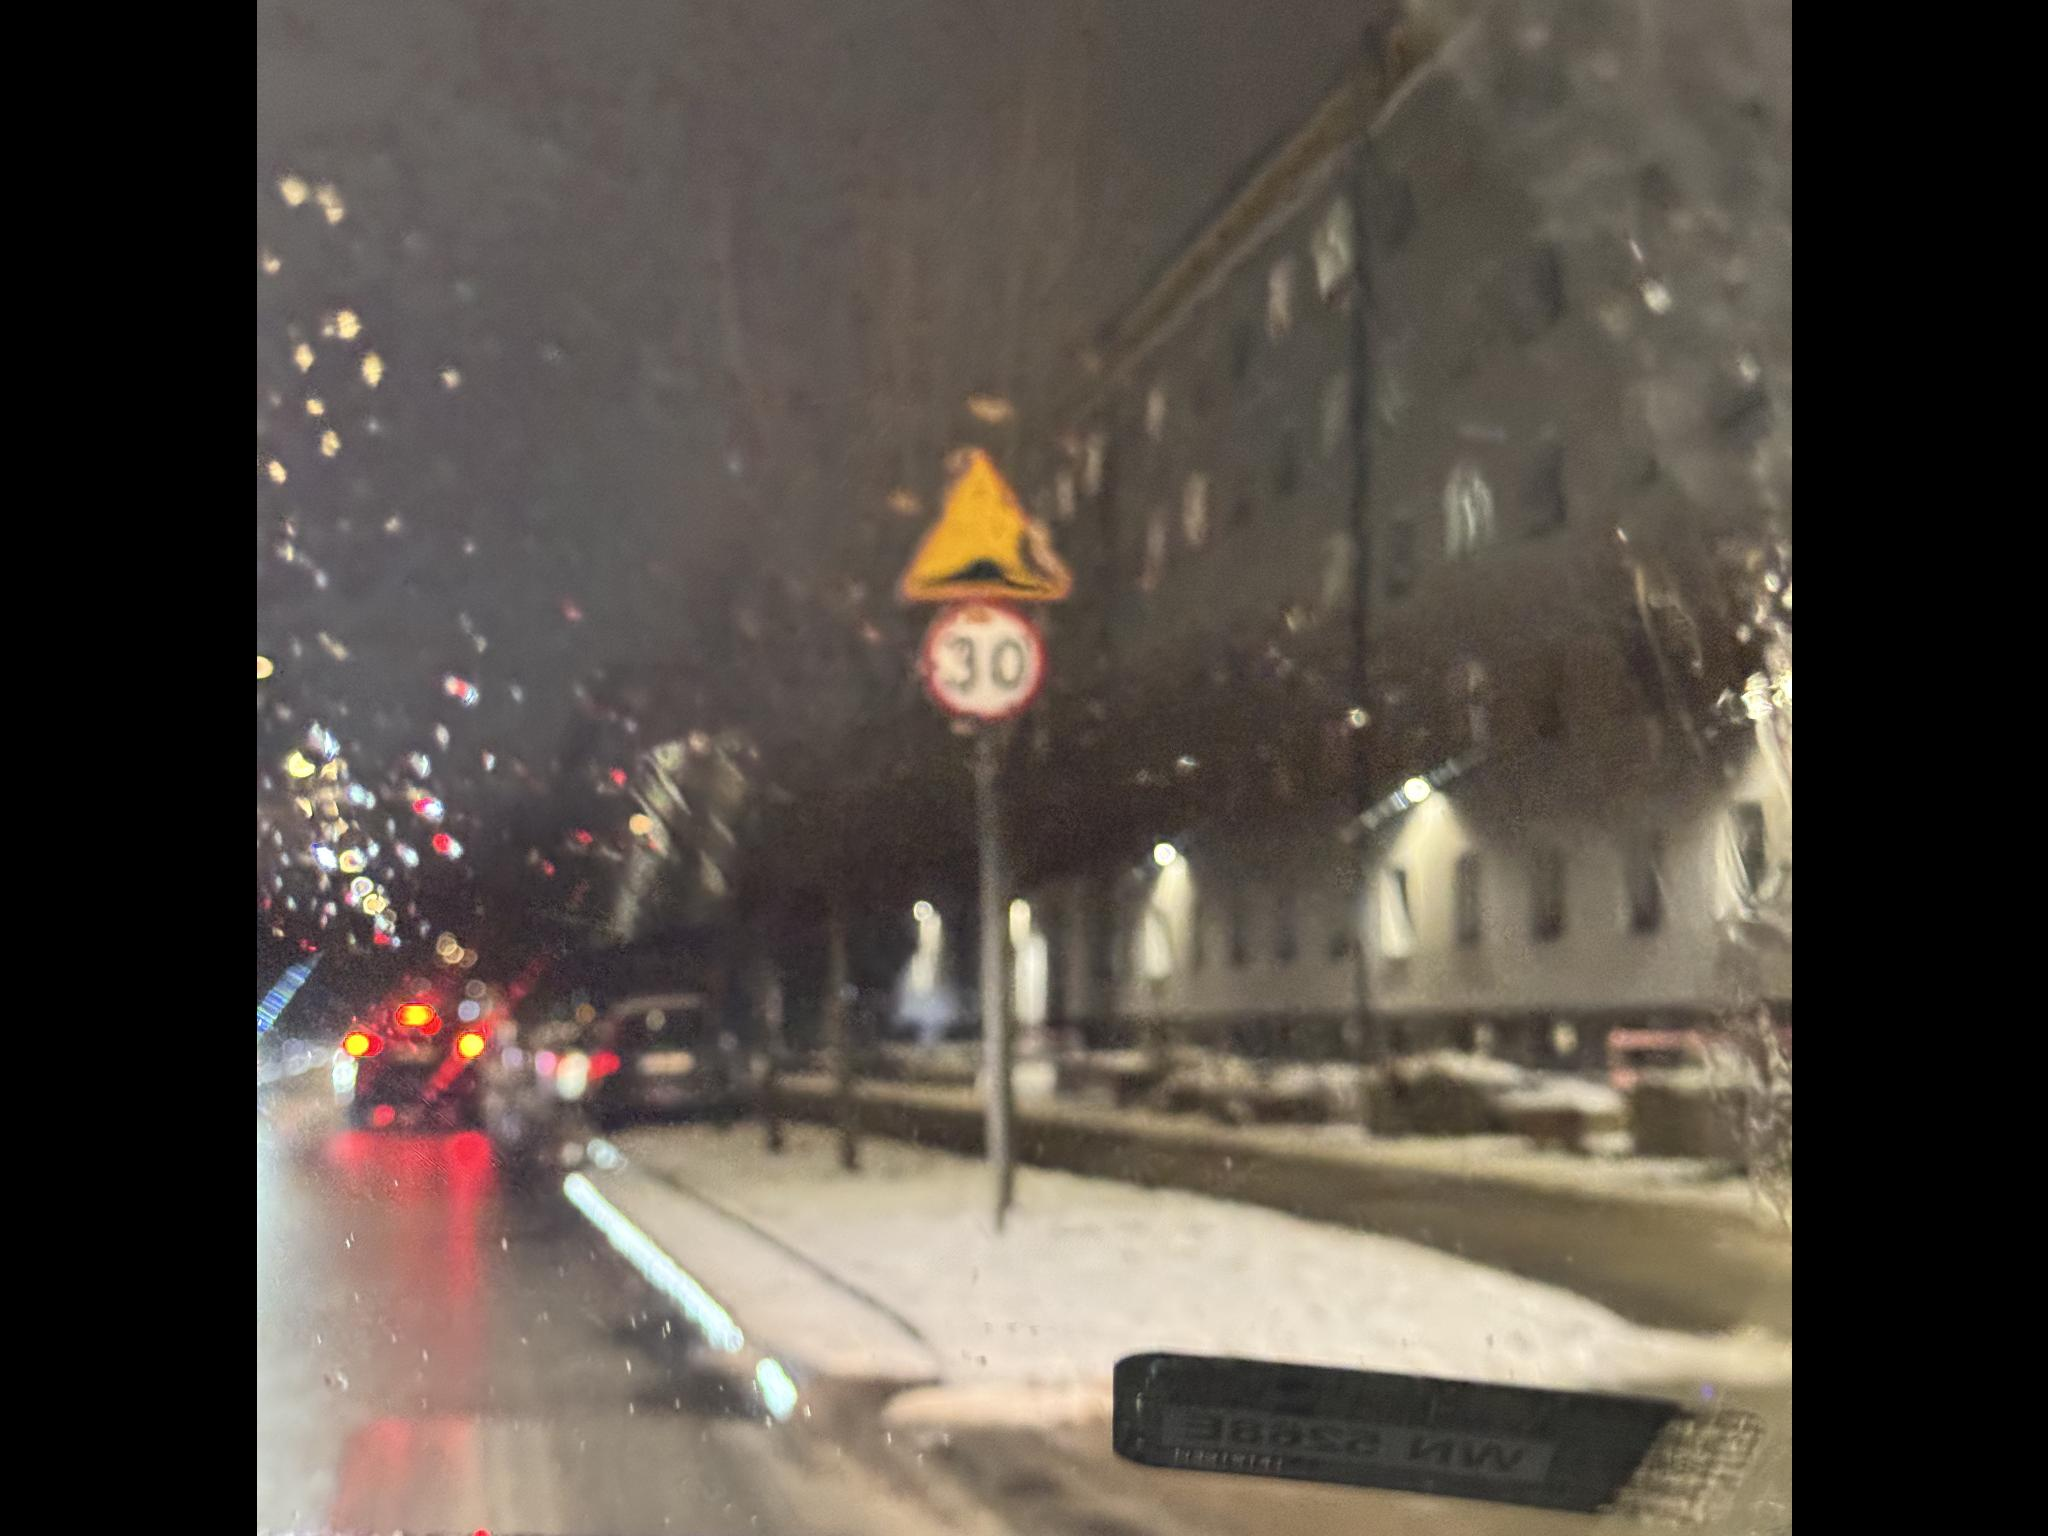prohibitory: (813, 407, 930, 532)
warning: (930, 379, 1092, 561)
